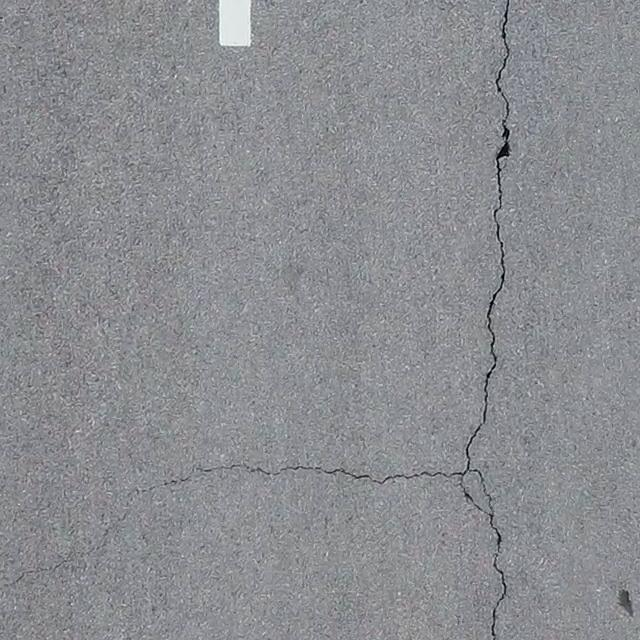GRIETA: (6, 463, 458, 586), (461, 0, 512, 639), (459, 481, 485, 512)
